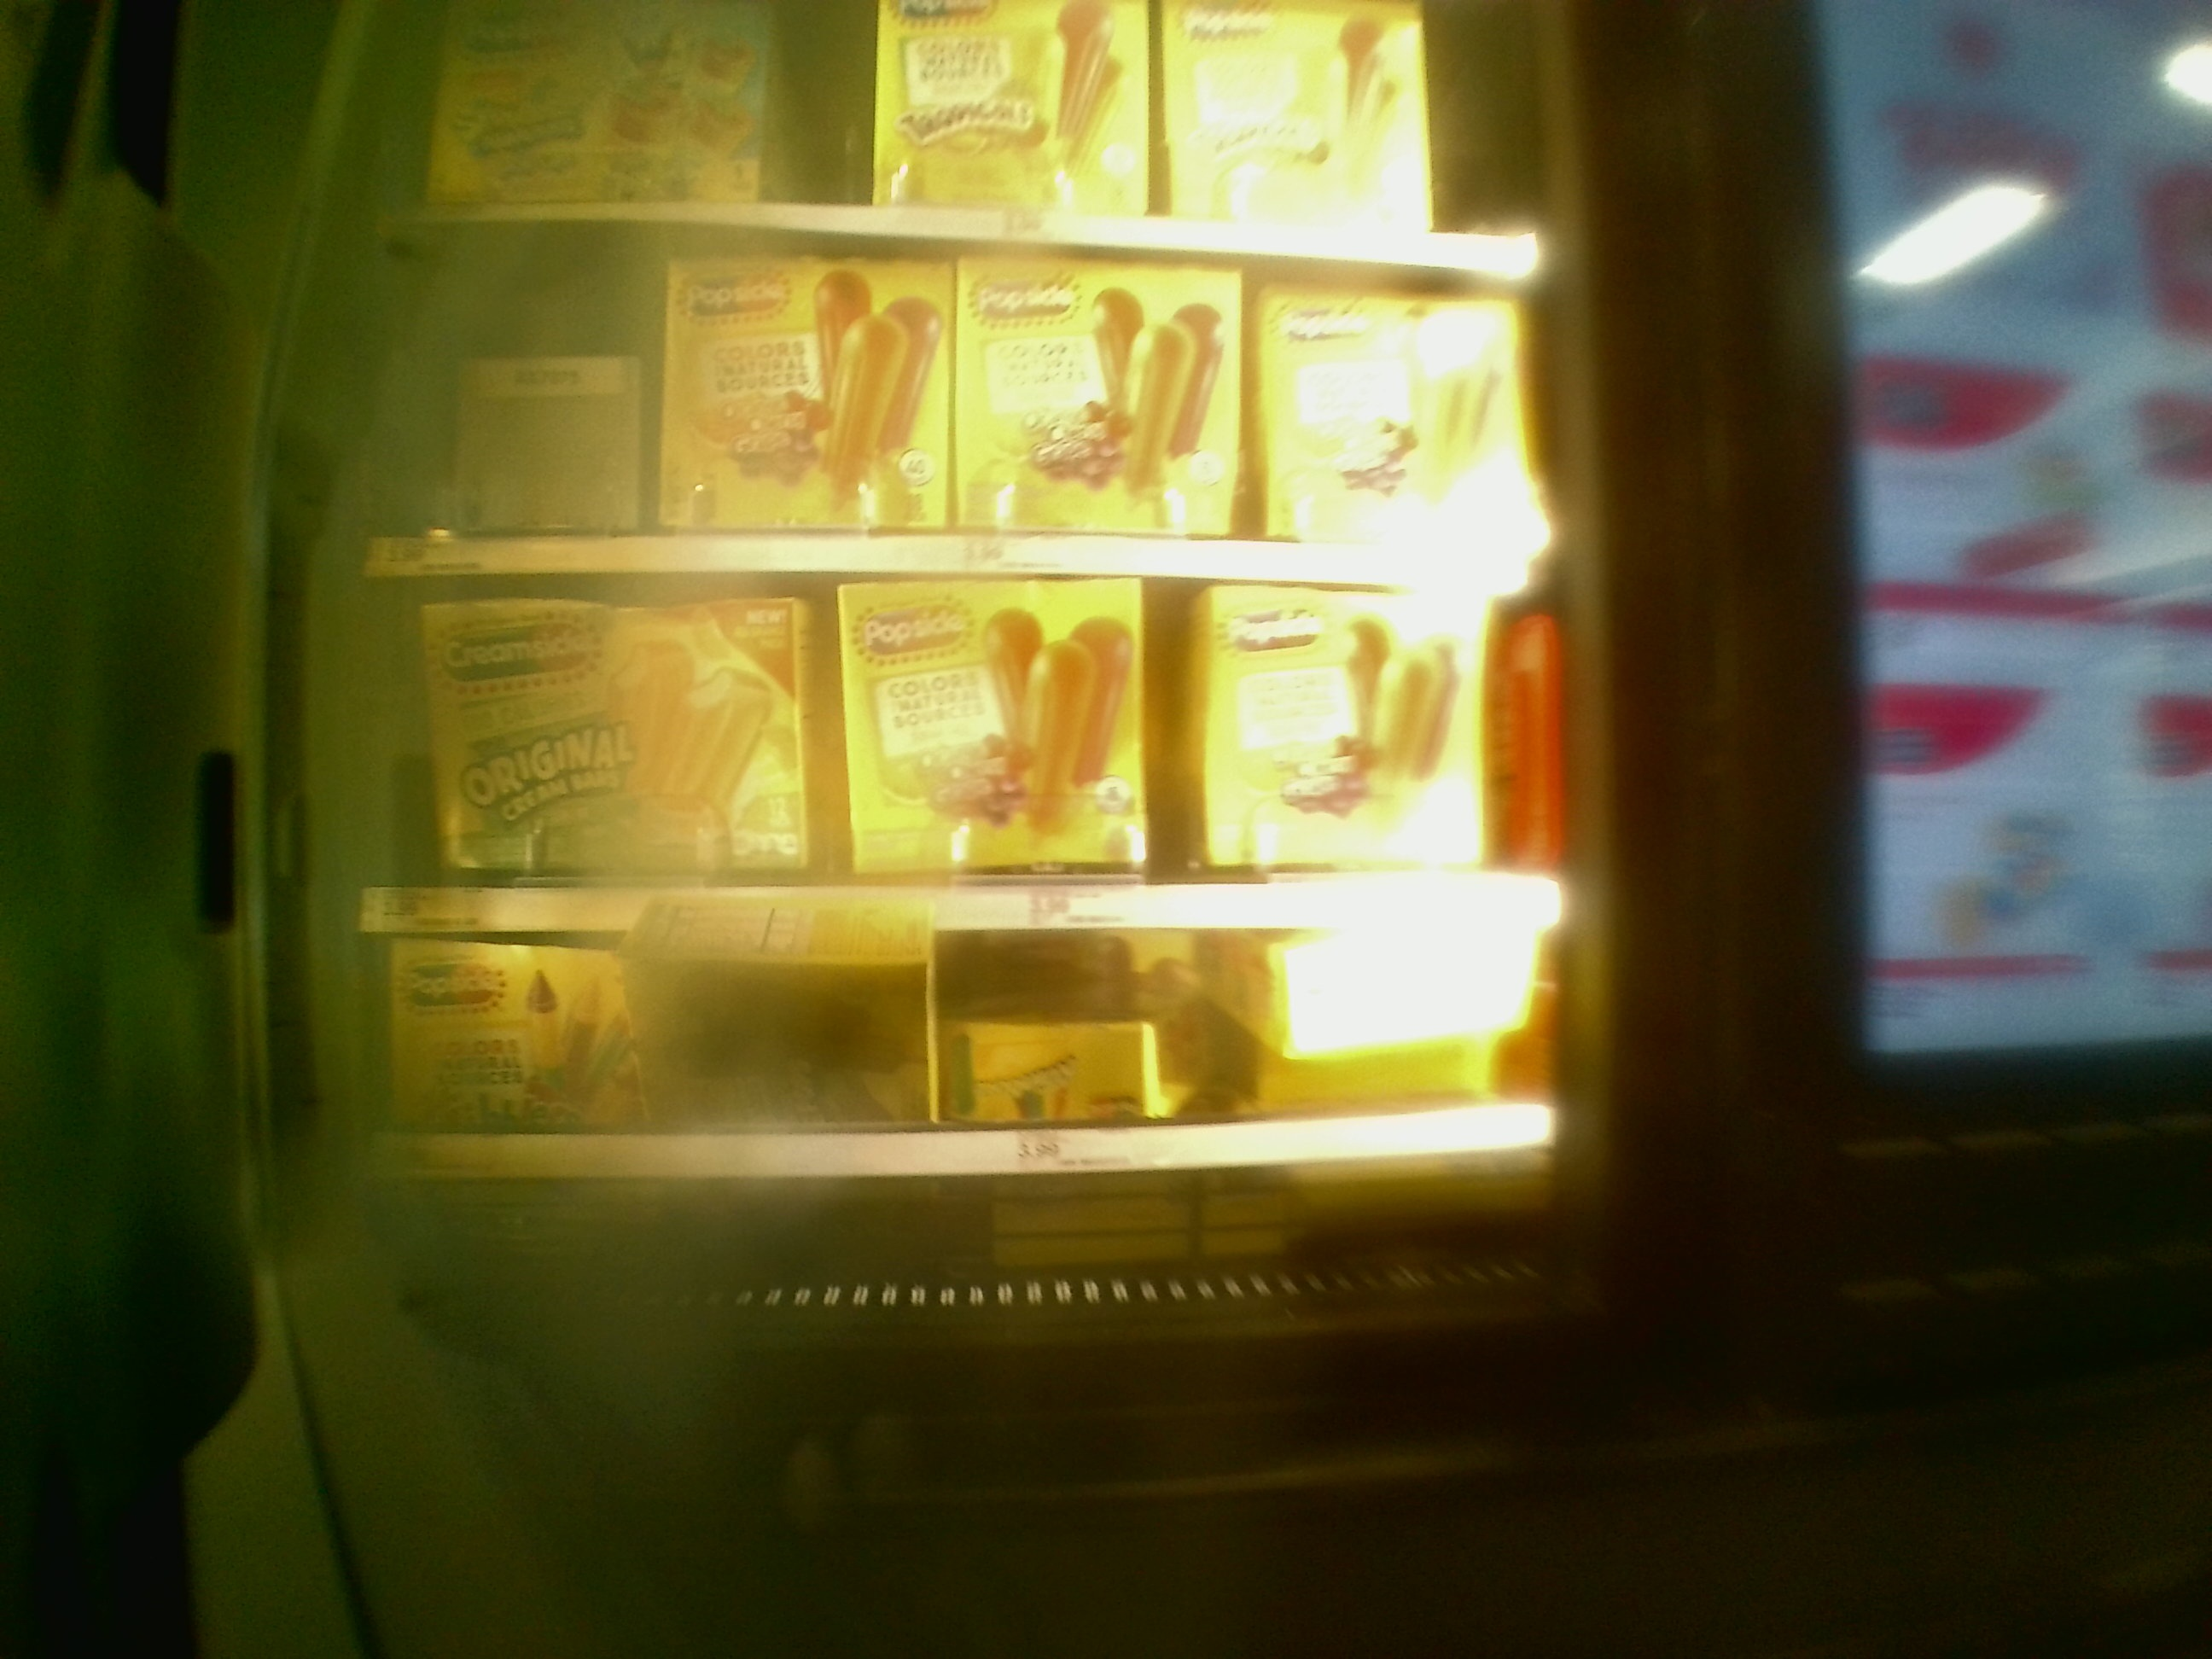frozen-food-shelf: (350, 579, 1559, 938), (348, 939, 1576, 1180)
